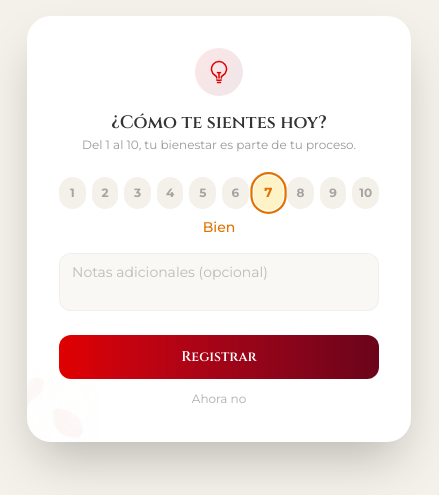
Test: MoodCheckIn › selects low score and shows correct label
The width and height of the screenshot is (439, 495).
Check: the heading "¿Cómo te sientes hoy?" is shown, box 111,110 -> 327,135
What coordinates should you click on to do the following:
click the button "2"
I would click on:
 (105, 193)
Its box is 92,177 -> 118,209.
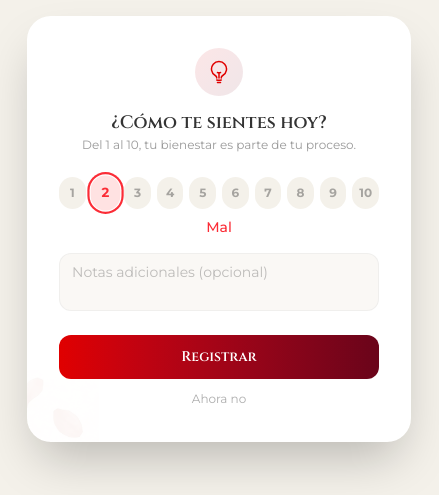
Check: the text "Mal" is shown, box 206,218 -> 232,236
